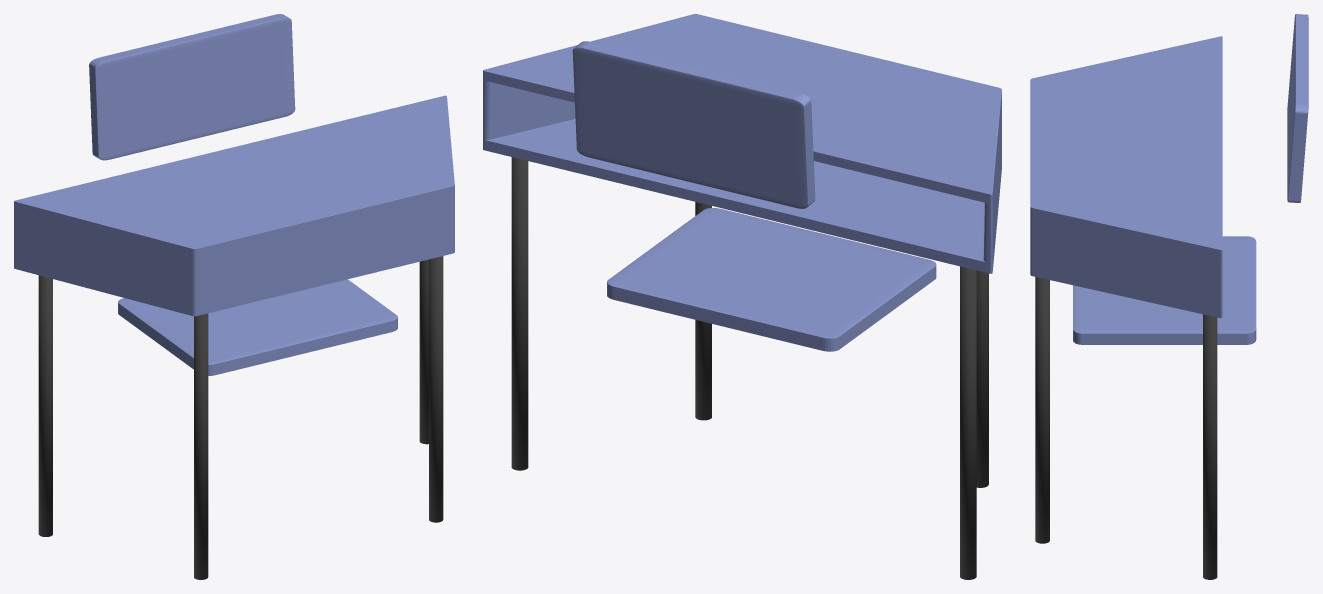
The model's file is table.fbx.
3 renders of one model, left to right at view 1: azimuth 30°, elevation 25°; view 2: azimuth 150°, elevation 25°; view 3: azimuth 270°, elevation 25°, orthographic. The views are drawn at different scales.
Parts seen in each view (by area): view 1: Table, Cube.001, Cube, Legs; view 2: Table, Cube, Cube.001, Legs; view 3: Table, Cube, Legs, Cube.001.
Boxes of the visible parts, x1=… form: Table: x1=14, y1=95, x2=454, y2=316; Cube.001: x1=89, y1=14, x2=295, y2=160; Cube: x1=118, y1=279, x2=397, y2=375; Legs: x1=38, y1=256, x2=443, y2=579; Table: x1=483, y1=14, x2=1001, y2=273; Cube: x1=607, y1=208, x2=936, y2=351; Cube.001: x1=572, y1=41, x2=815, y2=208; Legs: x1=511, y1=157, x2=988, y2=579; Table: x1=1030, y1=36, x2=1222, y2=318; Cube: x1=1073, y1=236, x2=1256, y2=344; Legs: x1=1035, y1=277, x2=1217, y2=579; Cube.001: x1=1287, y1=14, x2=1308, y2=202.
Bounding box in the file's own units: 161 × 149 × 88.65.
